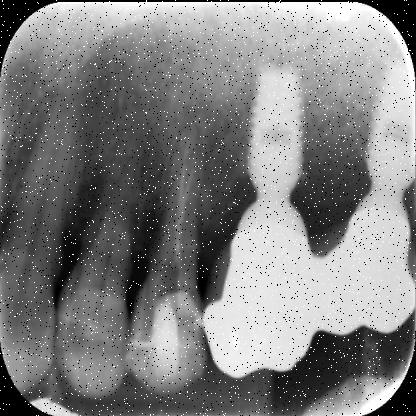Bicon: (243, 58, 308, 197), (362, 52, 414, 198)
